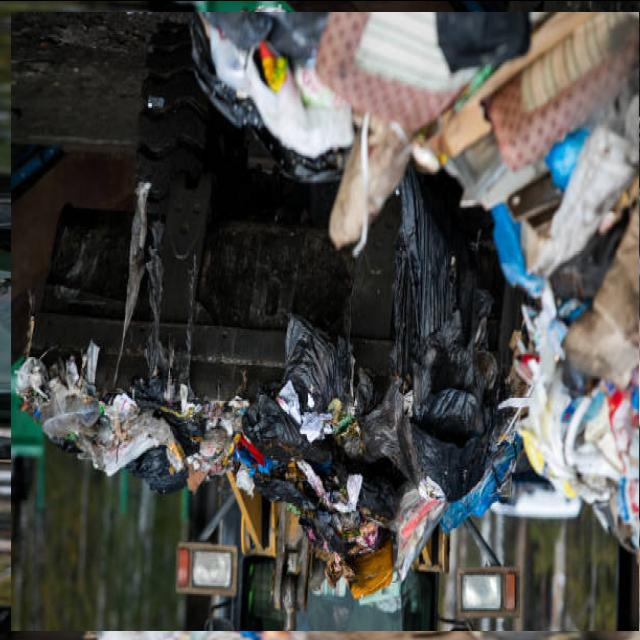garbage: (15, 6, 640, 635)
